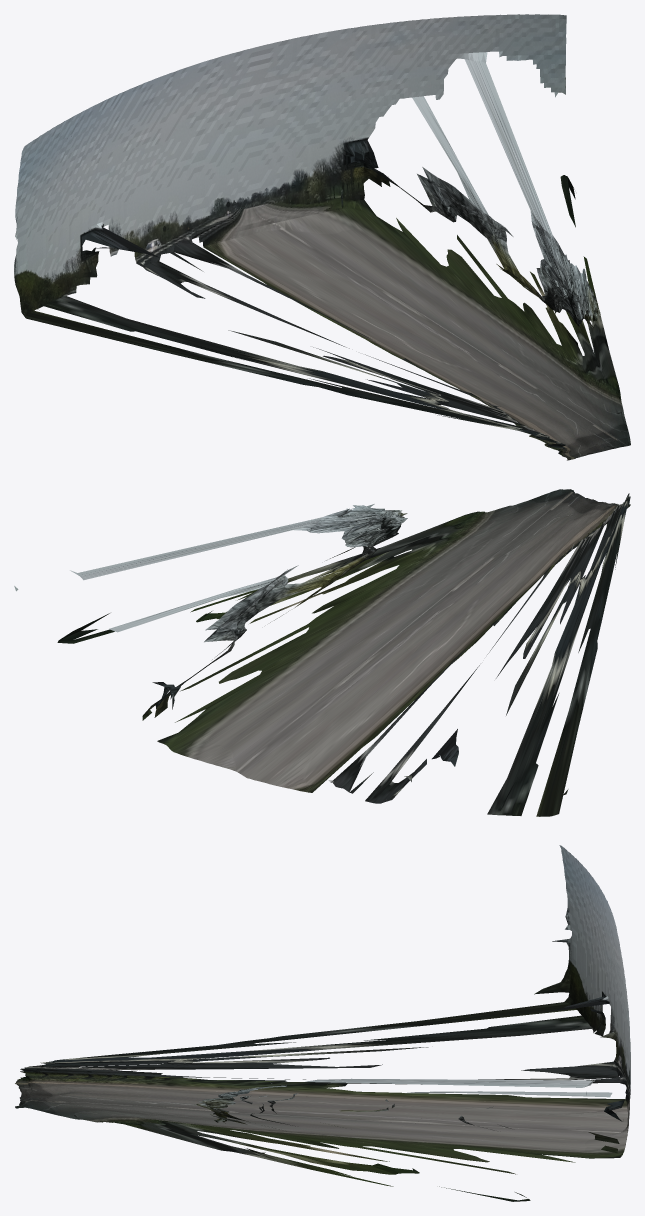
3 renders of one model, top to bottom at view 1: azimuth 30°, elevation 25°; view 2: azimuth 150°, elevation 25°; view 3: azimuth 270°, elevation 25°, orthographic. The views are drawn at different scales.
Visible parts, largest first — view 1: defaultobject; view 2: defaultobject; view 3: defaultobject.
Boxes of the visible parts, x1,y1,x2,y2 form: defaultobject: (14,14,630,460); defaultobject: (14,489,630,816); defaultobject: (15,845,630,1201).
Size of the model in its own units: 41.11 by 13.85 by 44.71.
Materials: 1 (1 with a texture image).
